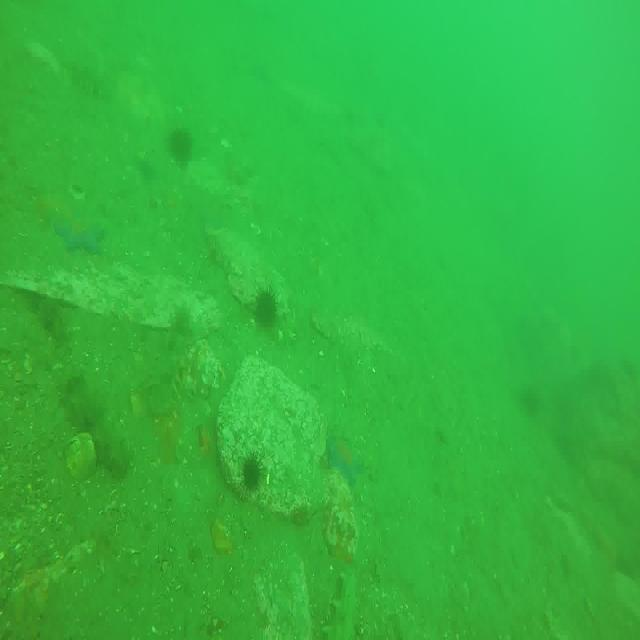echinus: (256, 284, 280, 334), (238, 451, 265, 491), (172, 127, 193, 168)
holothurian: (59, 371, 128, 476), (148, 307, 194, 428), (323, 567, 357, 640), (62, 61, 114, 102), (36, 292, 72, 337)
starfish: (324, 423, 366, 488), (56, 212, 107, 257)
